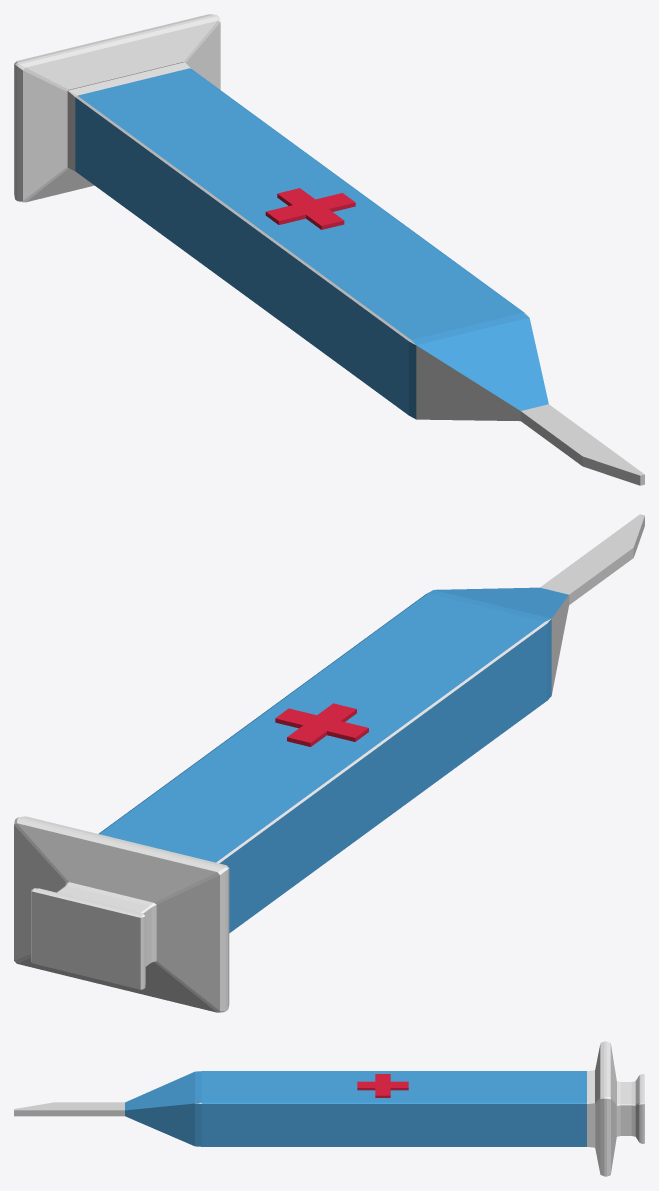
The model's file is PacketStream_Projectile.fbx.
3 views of the same model, one above another, from view 1: azimuth 30°, elevation 25°; view 2: azimuth 150°, elevation 25°; view 3: azimuth 270°, elevation 25° (orthographic). The views are drawn at different scales.
Parts seen in each view (by area): view 1: PacketStream_Projectile; view 2: PacketStream_Projectile; view 3: PacketStream_Projectile.
Part boxes in pixels (x1,y1,x2,y2): PacketStream_Projectile: (14, 14, 644, 485); PacketStream_Projectile: (14, 514, 644, 1012); PacketStream_Projectile: (14, 1041, 644, 1176).
Size of the model in its own units: 25.03 by 16.28 by 117.
